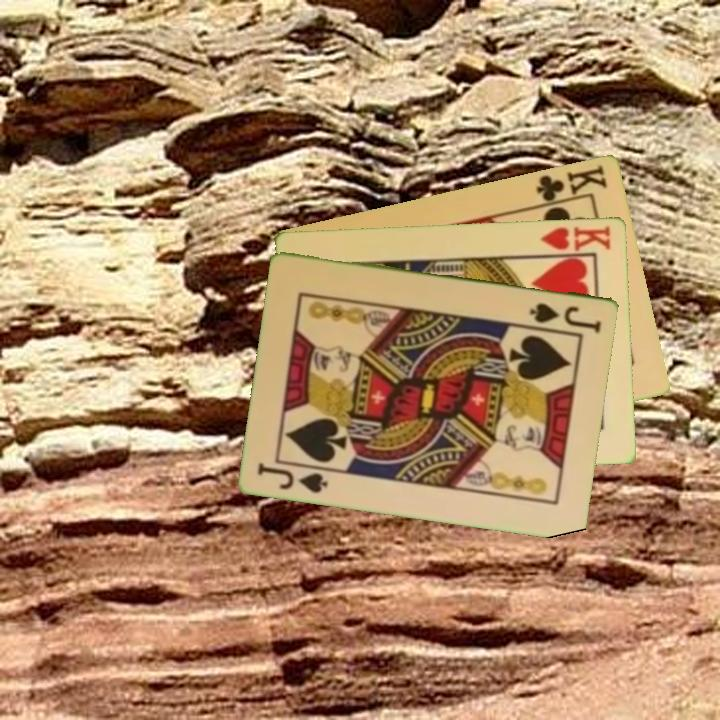Js: (254, 459, 331, 496), (526, 298, 604, 333)
Kc: (533, 161, 611, 209)
Kh: (533, 222, 614, 257)
